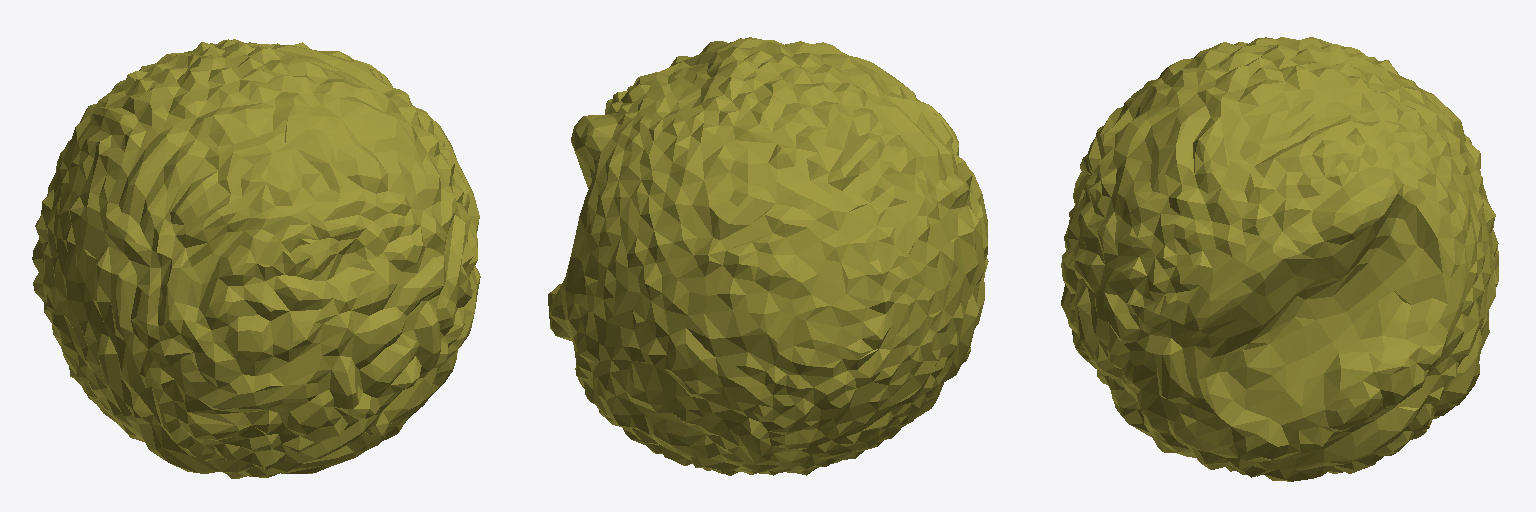
File: sandplanet.obj
The picture shows the model from 3 angles: view 1: azimuth 30°, elevation 25°; view 2: azimuth 150°, elevation 25°; view 3: azimuth 270°, elevation 25°; orthographic projection.
Visible parts, largest first — view 1: Cube; view 2: Cube; view 3: Cube.
Boxes of the visible parts, box(x1,y1,x2,y2) form: Cube: box(32, 39, 480, 478); Cube: box(548, 37, 988, 475); Cube: box(1061, 37, 1498, 481).
Bounding box in the file's own units: 1.7 × 1.73 × 1.75.